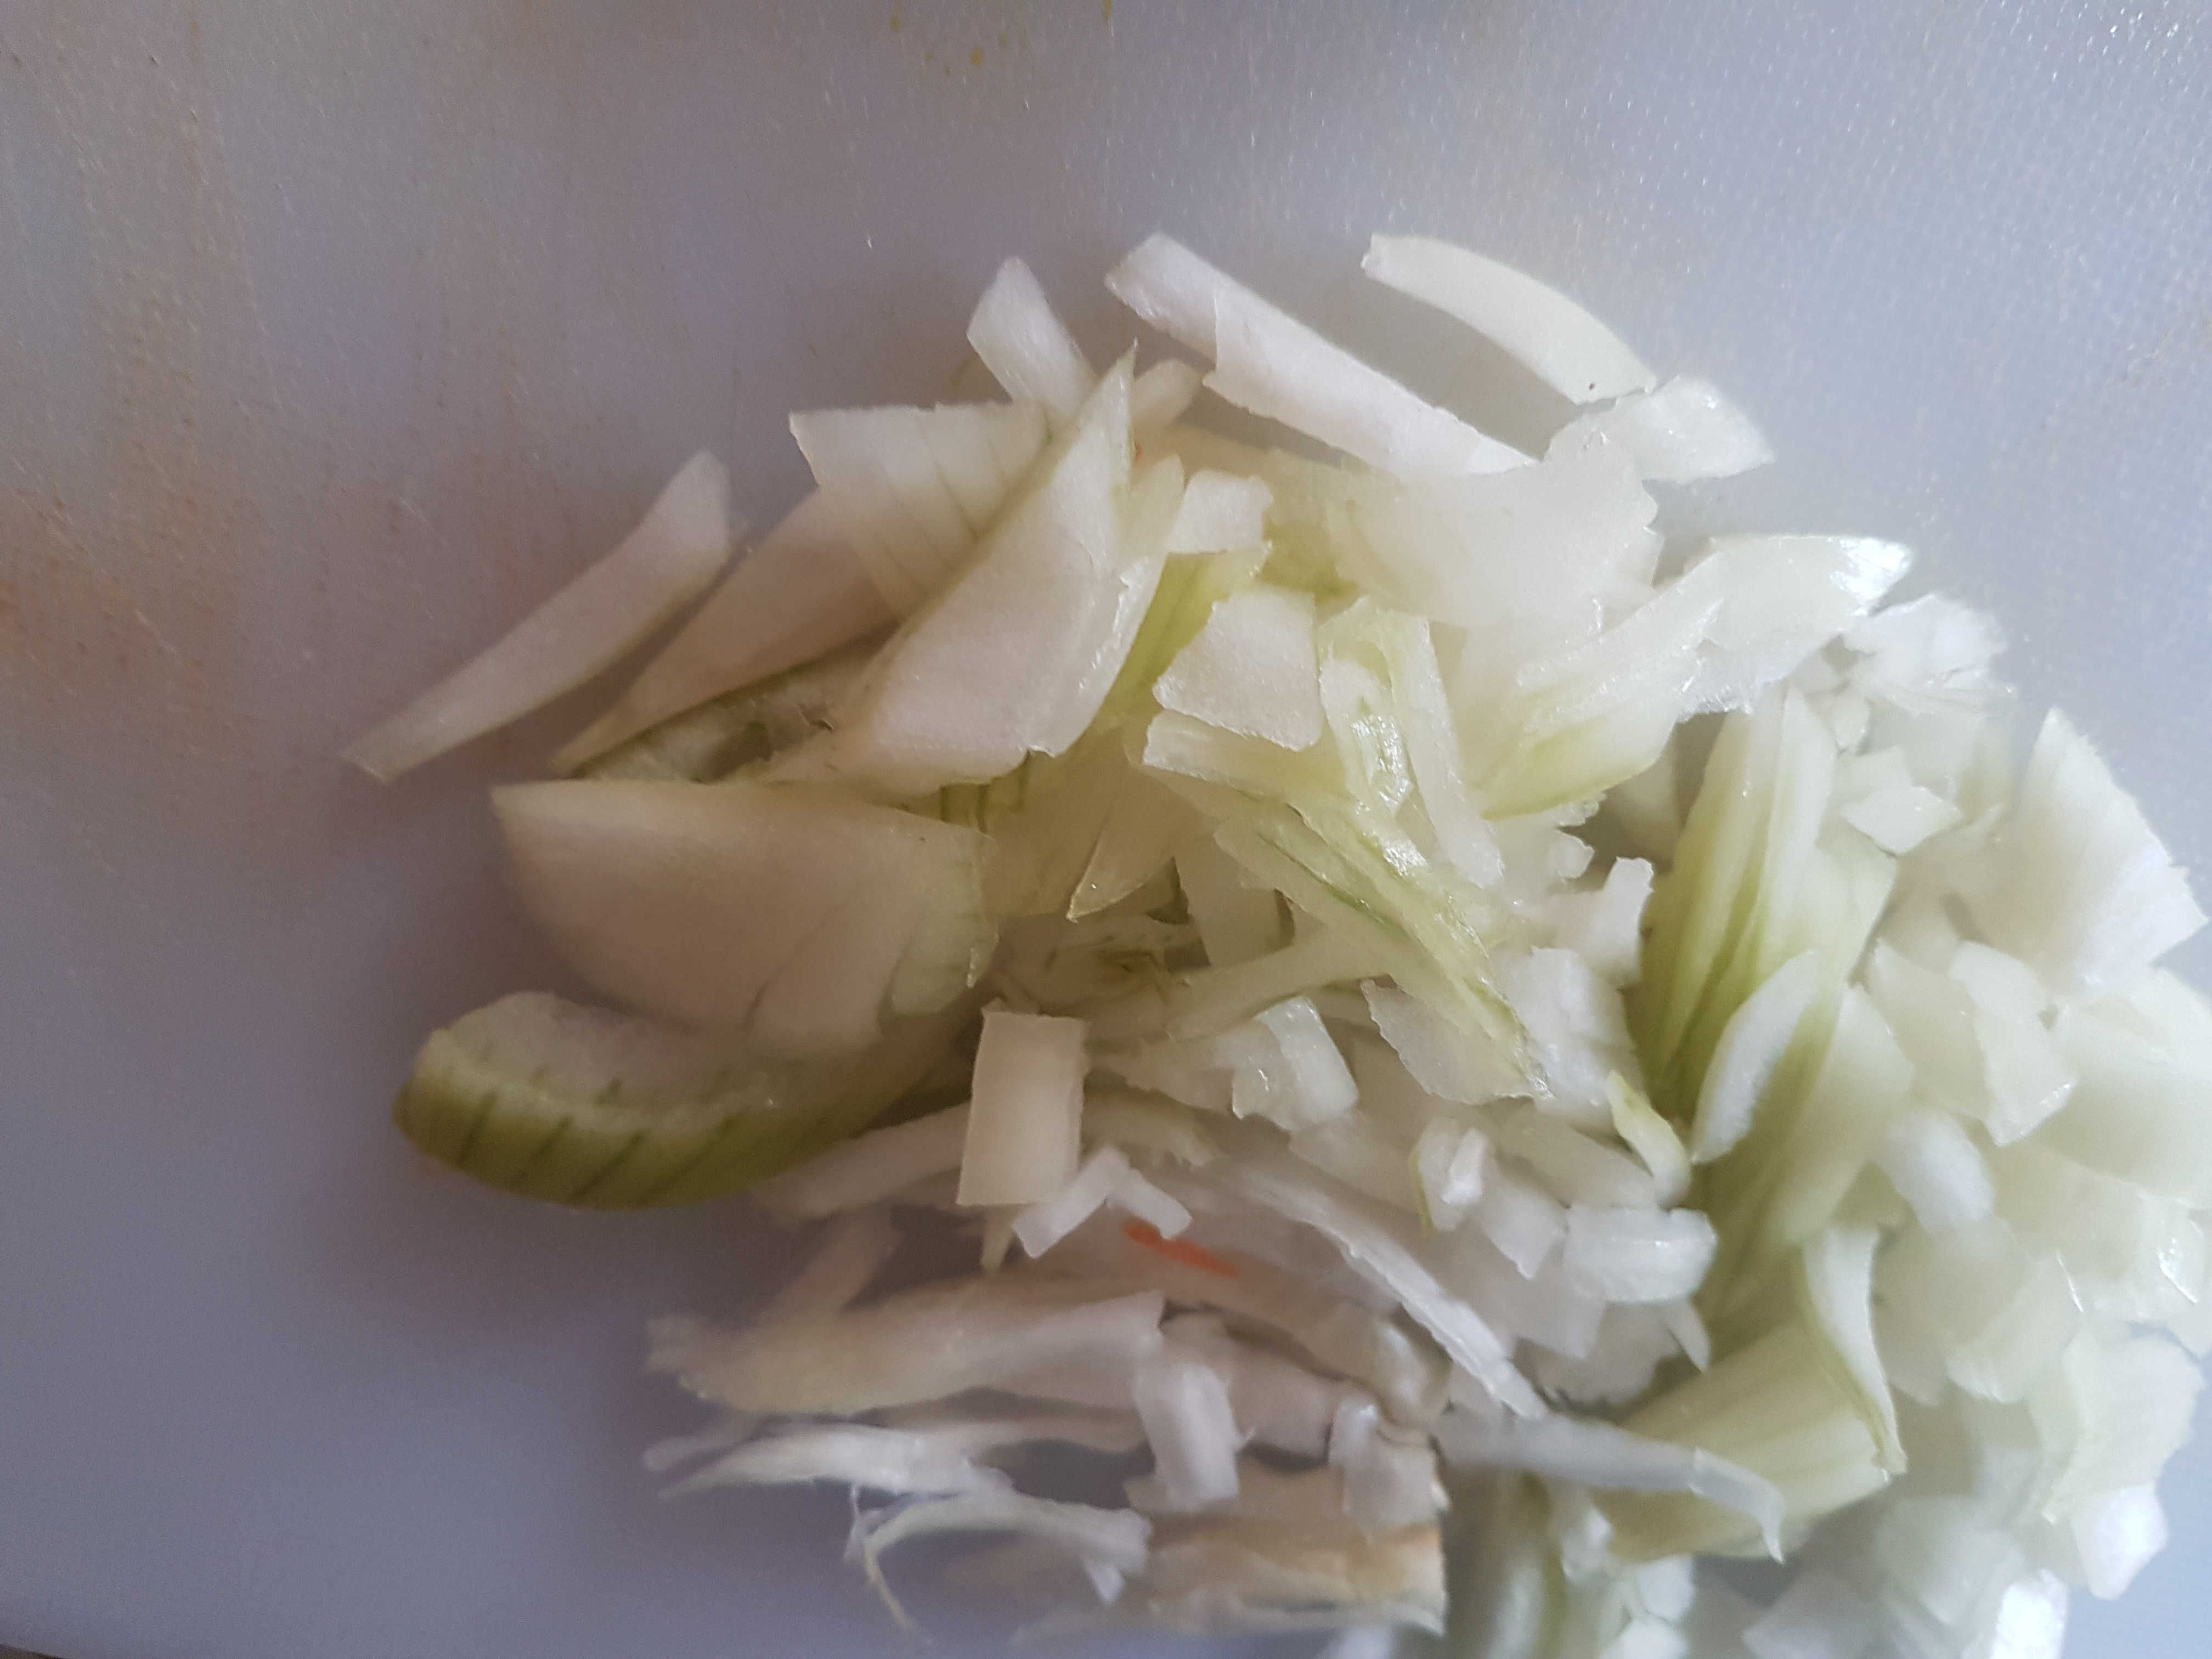Onions: (340, 242, 2212, 1650)
